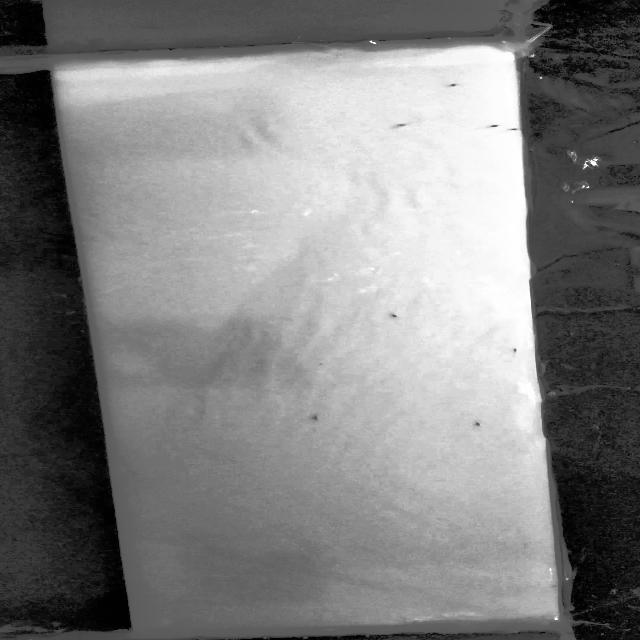shrimp: (469, 118, 505, 133), (387, 120, 429, 130), (383, 306, 408, 322), (496, 124, 521, 140), (501, 346, 525, 358), (437, 81, 462, 92), (301, 412, 326, 421), (465, 418, 484, 427)
